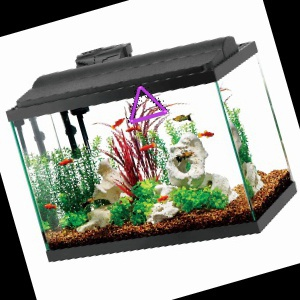triangle: (129, 83, 169, 124)
